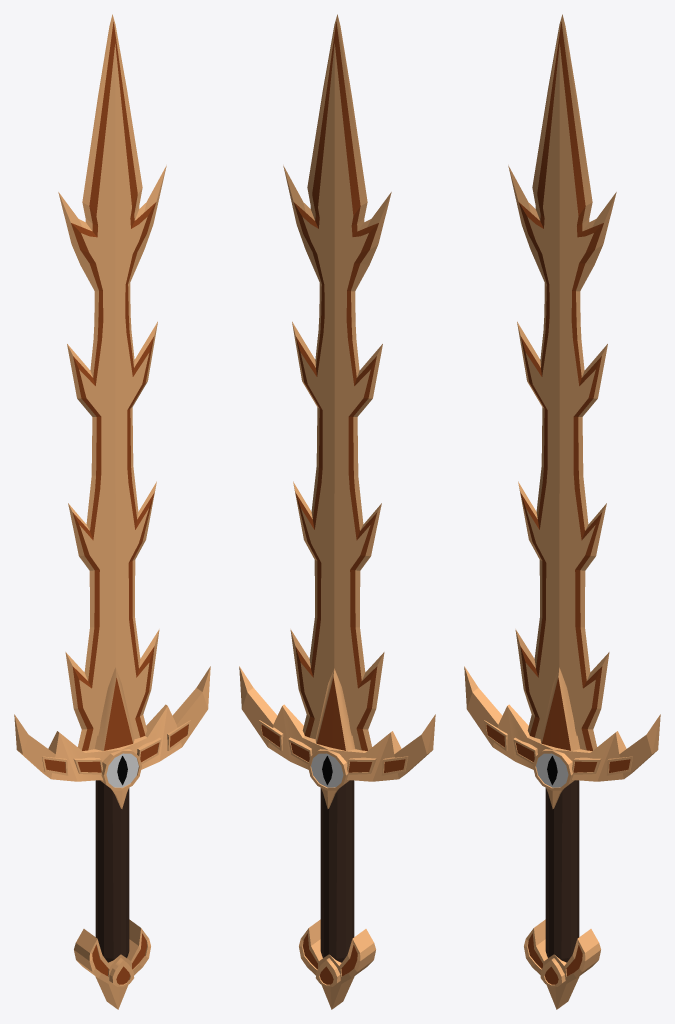
Rendered from longsword_fire.fbx.
The picture shows the model from 3 angles, left to right: view 1: azimuth 30°, elevation 25°; view 2: azimuth 150°, elevation 25°; view 3: azimuth 330°, elevation 25°; orthographic projection.
Visible parts, largest first — view 1: LongSword_Fire; view 2: LongSword_Fire; view 3: LongSword_Fire.
Part boxes in pixels (x1=…): LongSword_Fire: x1=14, y1=14, x2=210, y2=1009; LongSword_Fire: x1=239, y1=14, x2=435, y2=1009; LongSword_Fire: x1=464, y1=14, x2=660, y2=1009.
Size of the model in its own units: 0.0797 by 1.96 by 0.4066.
